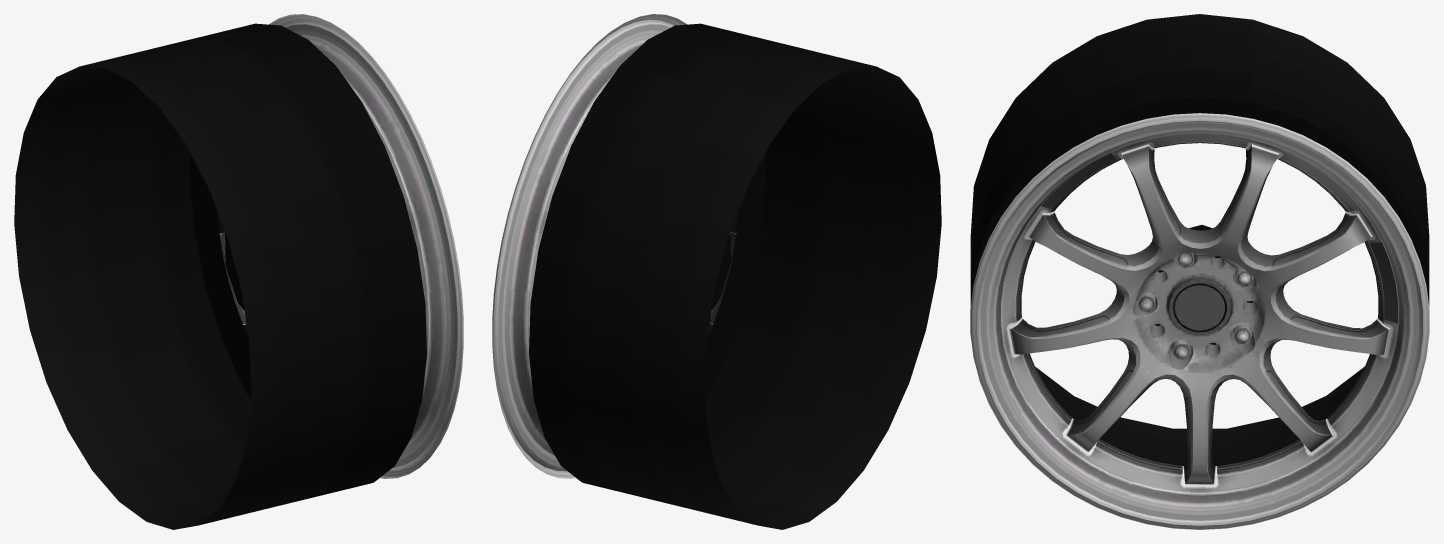
File: wheel47.fbx
3 views of the same model, side by side, from view 1: azimuth 30°, elevation 25°; view 2: azimuth 150°, elevation 25°; view 3: azimuth 270°, elevation 25° (orthographic). The views are drawn at different scales.
Visible parts, largest first — view 1: gra_57_optimise_wheel_wheel_inner_rim_, wheel_rim; view 2: gra_57_optimise_wheel_wheel_inner_rim_, wheel_rim; view 3: wheel_rim, gra_57_optimise_wheel_wheel_inner_rim_, gra_57_optimise_wheel_wheel_rim_, gra_57_optimise_wheel_wheel_wheel_emblem_, gra_57_optimise_wheel_wheel_chrome_rim_.
Part boxes in pixels (bbox=[...]): gra_57_optimise_wheel_wheel_inner_rim_: bbox=[14, 23, 426, 529]; wheel_rim: bbox=[219, 14, 463, 478]; gra_57_optimise_wheel_wheel_inner_rim_: bbox=[529, 23, 941, 529]; wheel_rim: bbox=[492, 14, 736, 478]; wheel_rim: bbox=[970, 113, 1429, 529]; gra_57_optimise_wheel_wheel_inner_rim_: bbox=[970, 14, 1429, 465]; gra_57_optimise_wheel_wheel_rim_: bbox=[1009, 144, 1390, 484]; gra_57_optimise_wheel_wheel_wheel_emblem_: bbox=[1041, 153, 1397, 323]; gra_57_optimise_wheel_wheel_chrome_rim_: bbox=[1136, 253, 1253, 360].
Bounding box in the file's own units: 0.2286 × 0.4387 × 0.4379.
Materials: 1 (1 with a texture image).
